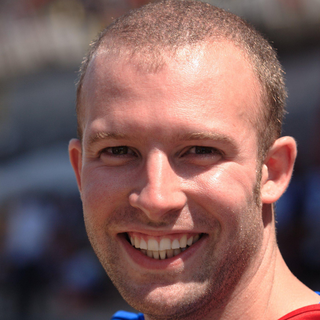eye: (173, 139, 230, 165), (95, 138, 146, 166)
